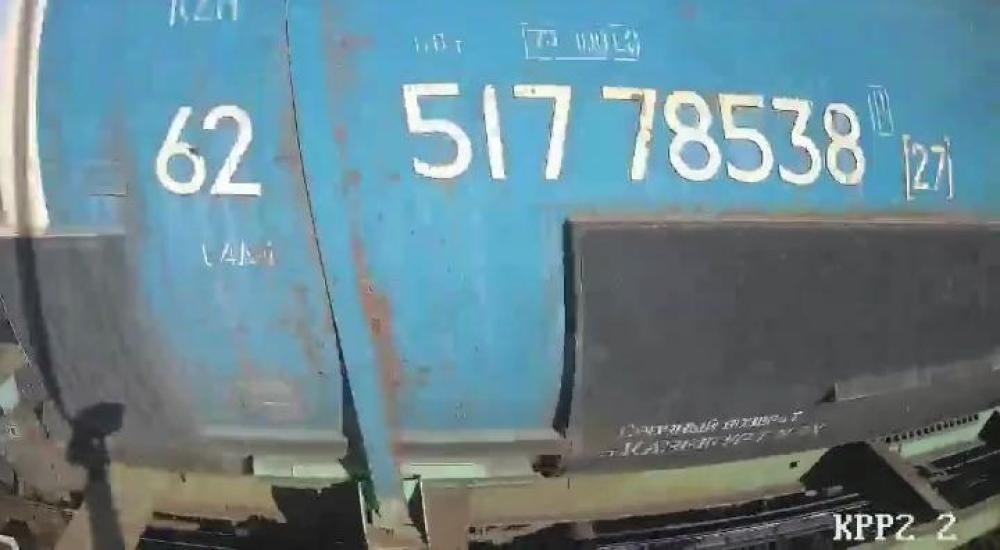Wagon-number: (394, 74, 870, 191)
